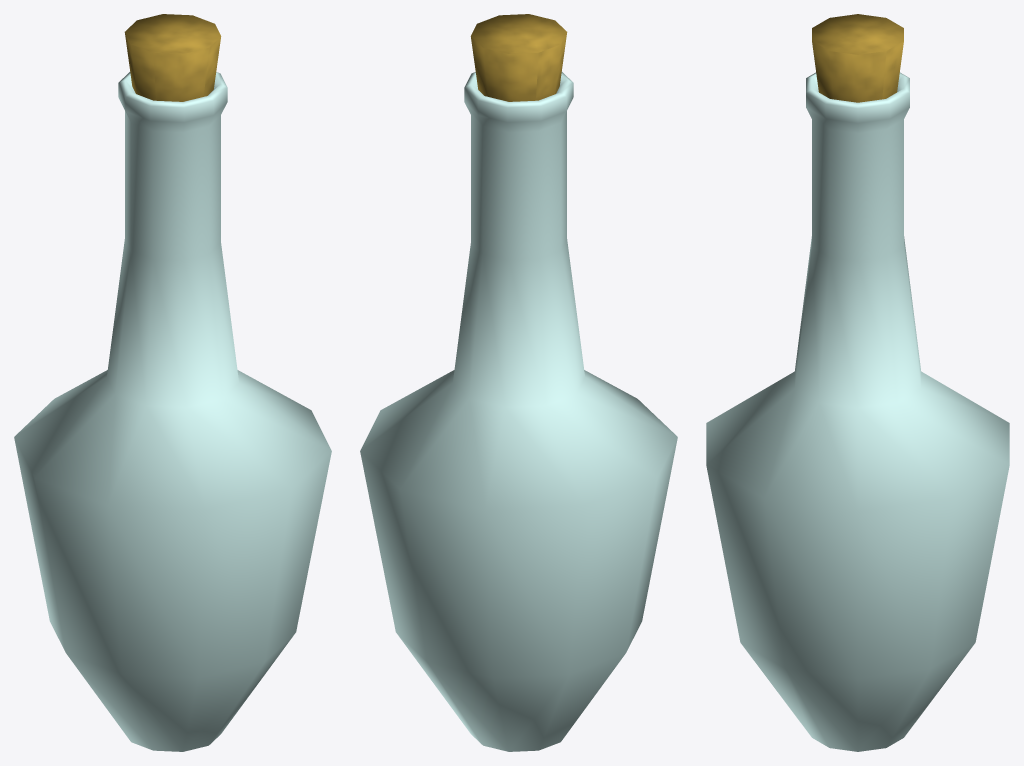
The model's file is heart-long_neck.glb.
The picture shows the model from 3 angles, left to right: view 1: azimuth 30°, elevation 25°; view 2: azimuth 150°, elevation 25°; view 3: azimuth 270°, elevation 25°; orthographic projection.
Visible parts, largest first — view 1: heart-long_neck, cork-heart-long_neck; view 2: heart-long_neck, cork-heart-long_neck; view 3: heart-long_neck, cork-heart-long_neck.
Part boxes in pixels (<box>): heart-long_neck: <box>14,72,331,751</box>; cork-heart-long_neck: <box>124,14,221,101</box>; heart-long_neck: <box>360,72,677,751</box>; cork-heart-long_neck: <box>470,14,567,101</box>; heart-long_neck: <box>706,72,1009,751</box>; cork-heart-long_neck: <box>812,14,903,102</box>.
Size of the model in its own units: 0.0745 by 0.1796 by 0.0709.
Materials: 2 (1 with a texture image).
